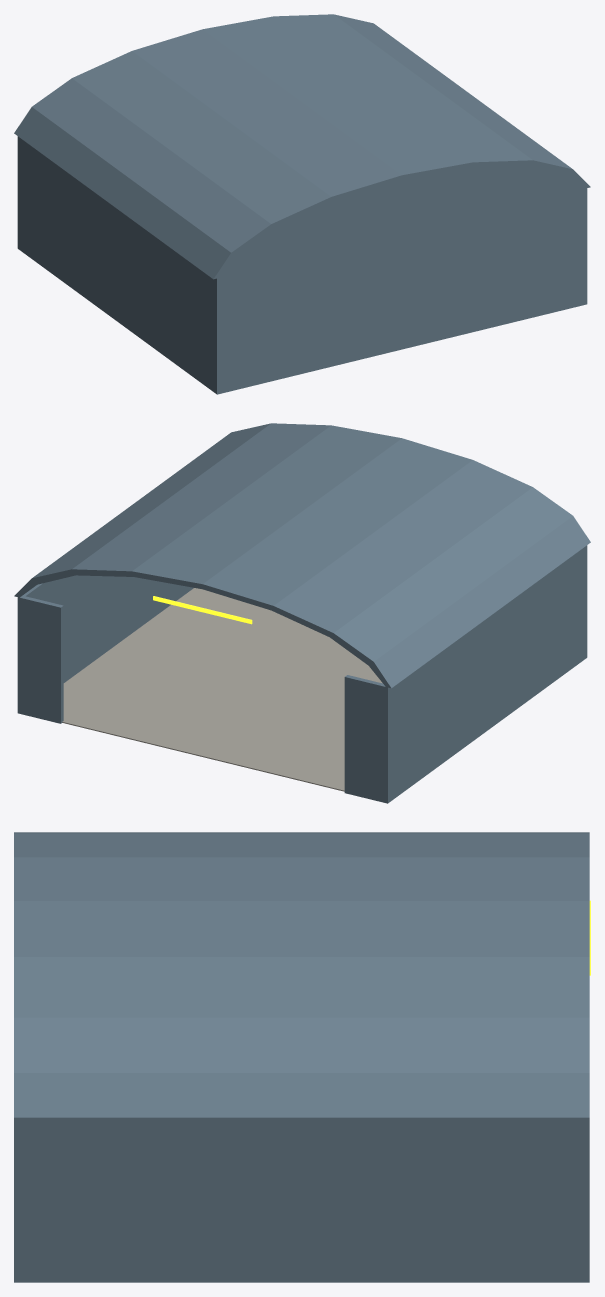
The model's file is bld_hangar.glb.
The picture shows the model from 3 angles, top to bottom: view 1: azimuth 30°, elevation 25°; view 2: azimuth 150°, elevation 25°; view 3: azimuth 270°, elevation 25°; orthographic projection. The views are drawn at different scales.
Parts seen in each view (by area): view 1: bld_hangar__mesh; view 2: bld_hangar__mesh; view 3: bld_hangar__mesh.
Boxes of the visible parts, <box> form: bld_hangar__mesh: <box>14,14,590,394</box>; bld_hangar__mesh: <box>14,423,590,803</box>; bld_hangar__mesh: <box>14,832,590,1282</box>.
Bounding box in the file's own units: 30.6 × 13.5 × 28.06.
